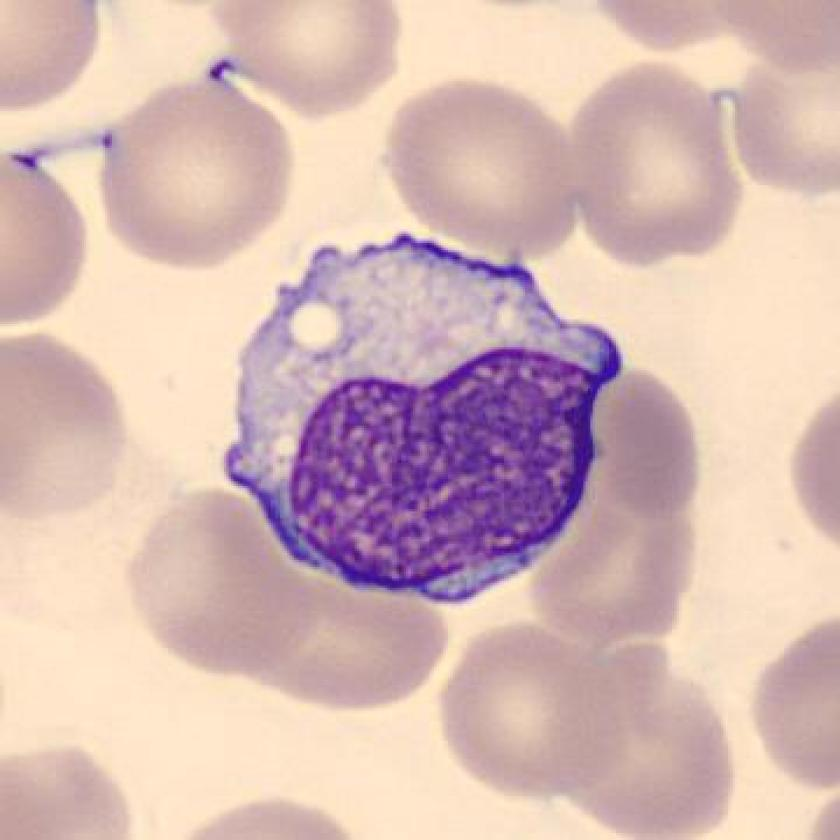monocyte: (206, 214, 636, 621)
